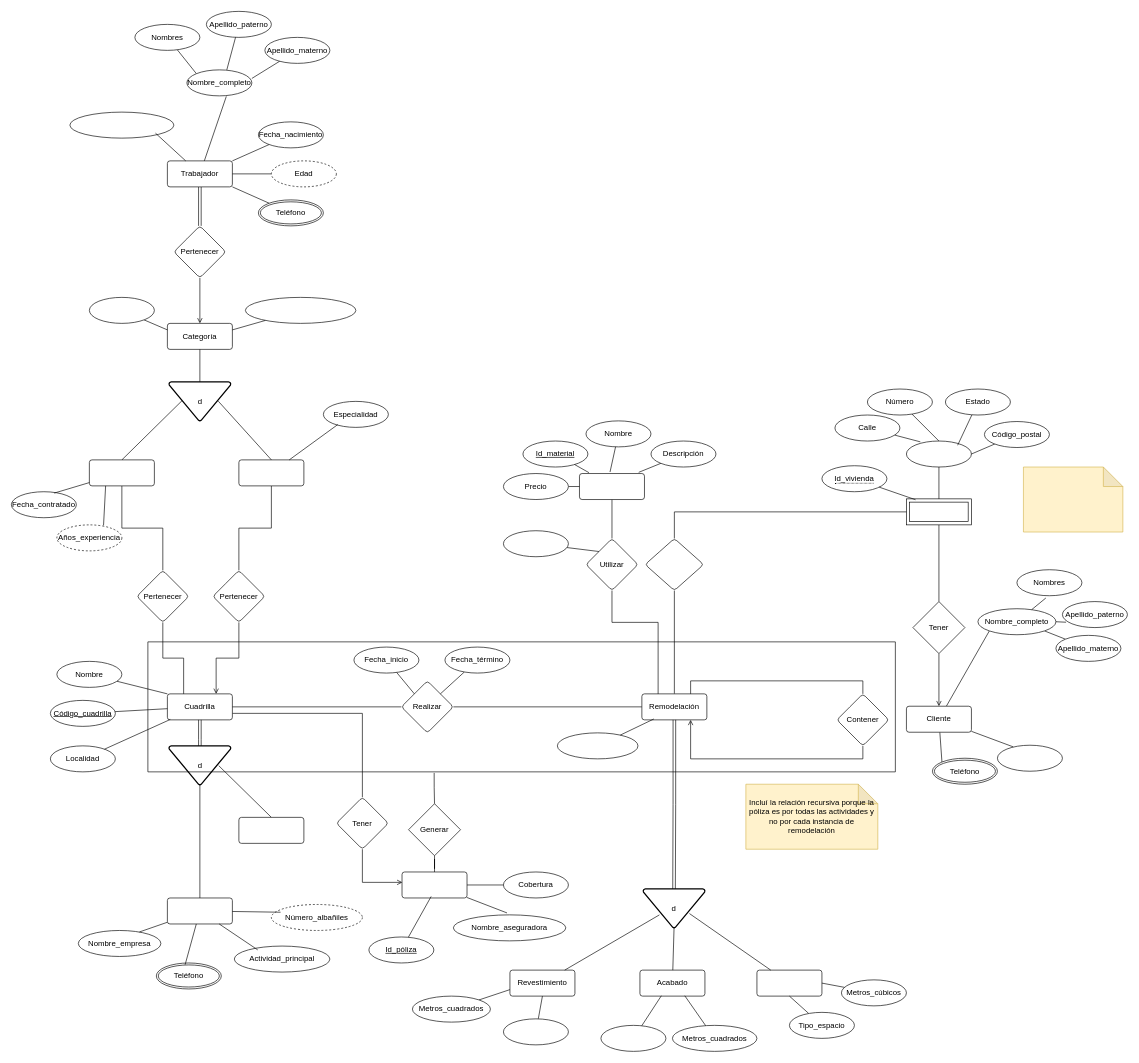
This 1139x1063 diagram has some shape labels left out. Here are the shapes that lost their labels. From the top down, the box of each, then its label:
(69, 111, 174, 138): Número seguridad_social
(89, 297, 154, 323): Sueldo
(245, 297, 356, 323): Identificador_categoría
(89, 459, 154, 486): Maestro_albañil
(238, 459, 304, 486): Albañil
(906, 440, 971, 467): Dirección
(579, 473, 644, 500): Material
(1023, 466, 1123, 532): Para la llave parcial está bien poner la dirección?
(906, 498, 971, 525): Vivienda
(503, 530, 568, 557): Cantidad
(644, 538, 704, 591): Recibir
(557, 732, 638, 759): Id_remodelación
(997, 745, 1062, 771): CURP
(238, 817, 304, 843): Interna
(401, 871, 467, 898): Póliza
(167, 897, 232, 924): Externa
(756, 969, 822, 996): Solado
(503, 1018, 568, 1045): Superficie
(600, 1025, 666, 1051): Tipo_aplanado
